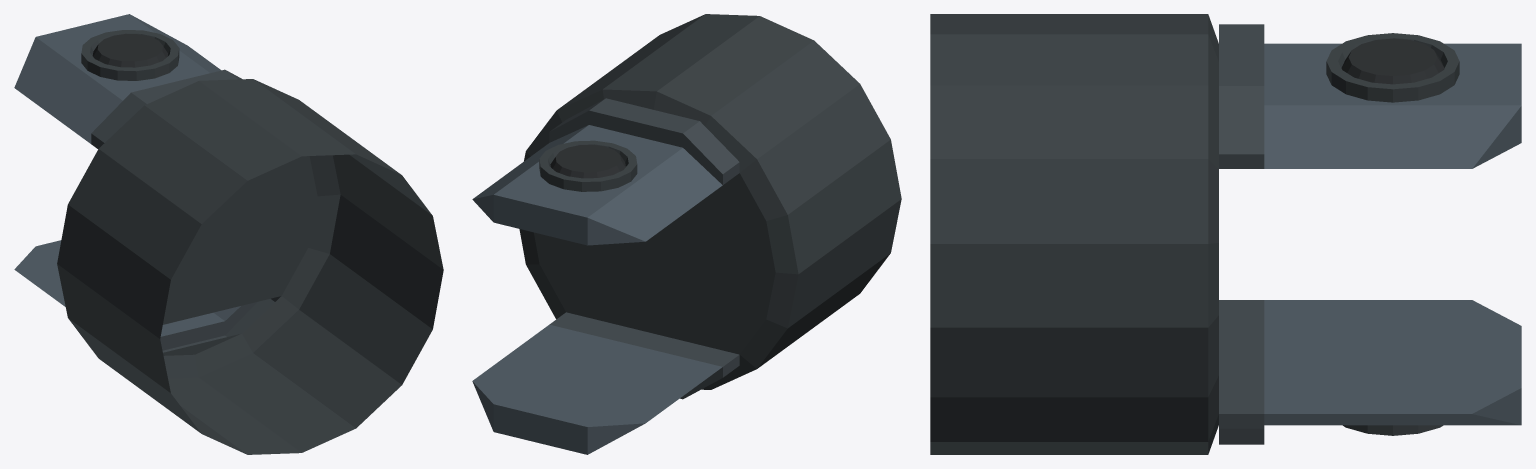
File: Eixo_Missel_L.obj
The picture shows the model from 3 angles, left to right: view 1: azimuth 30°, elevation 25°; view 2: azimuth 150°, elevation 25°; view 3: azimuth 270°, elevation 25°; orthographic projection. The views are drawn at different scales.
Visible parts, largest first — view 1: Eixo_Missel_L_Trackless_Engine.001_Cylinder.005; view 2: Eixo_Missel_L_Trackless_Engine.001_Cylinder.005; view 3: Eixo_Missel_L_Trackless_Engine.001_Cylinder.005.
Part boxes in pixels (x1=…): Eixo_Missel_L_Trackless_Engine.001_Cylinder.005: x1=14, y1=14, x2=443, y2=454; Eixo_Missel_L_Trackless_Engine.001_Cylinder.005: x1=472, y1=14, x2=901, y2=454; Eixo_Missel_L_Trackless_Engine.001_Cylinder.005: x1=930, y1=14, x2=1521, y2=454.
Bounding box in the file's own units: 0.9923 × 0.9923 × 1.33.
1 material, 1 textured.
